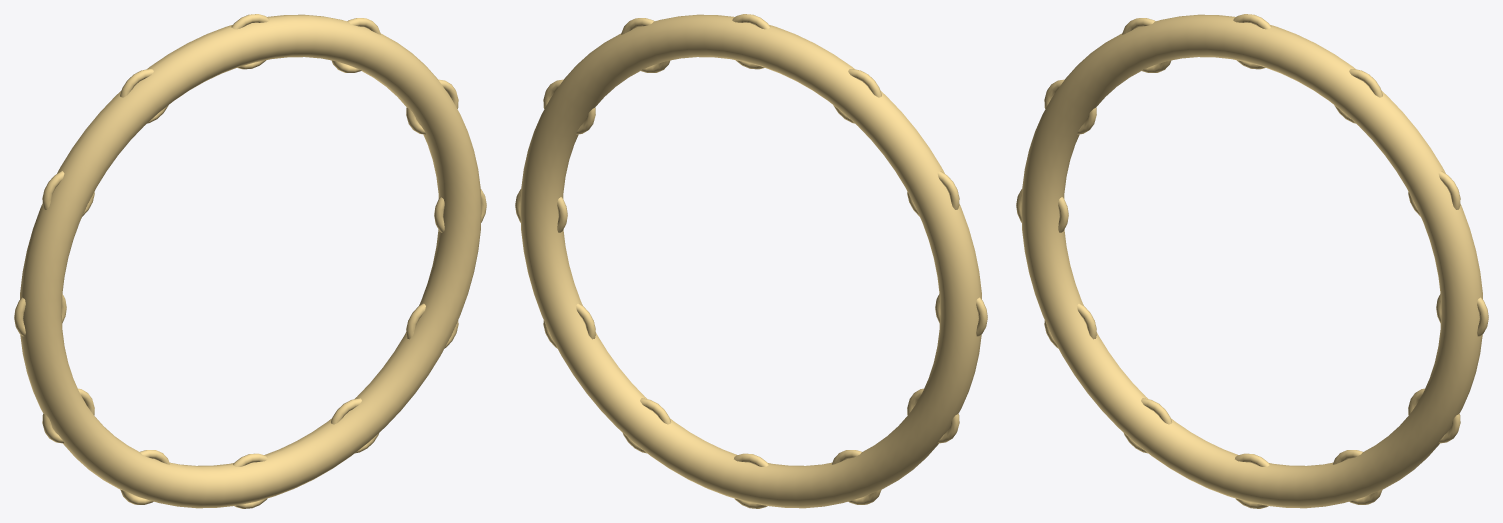
File: goal_ring.glb
3 renders of one model, left to right at view 1: azimuth 30°, elevation 25°; view 2: azimuth 150°, elevation 25°; view 3: azimuth 330°, elevation 25°, orthographic.
Parts seen in each view (by area): view 1: goal_ring; view 2: goal_ring; view 3: goal_ring.
Part boxes in pixels (left/top/right/bottom): goal_ring: left=14, top=14, right=486, bottom=508; goal_ring: left=515, top=14, right=987, bottom=508; goal_ring: left=1016, top=14, right=1488, bottom=508.
Bounding box in the file's own units: 4.1 × 4.1 × 0.312.
